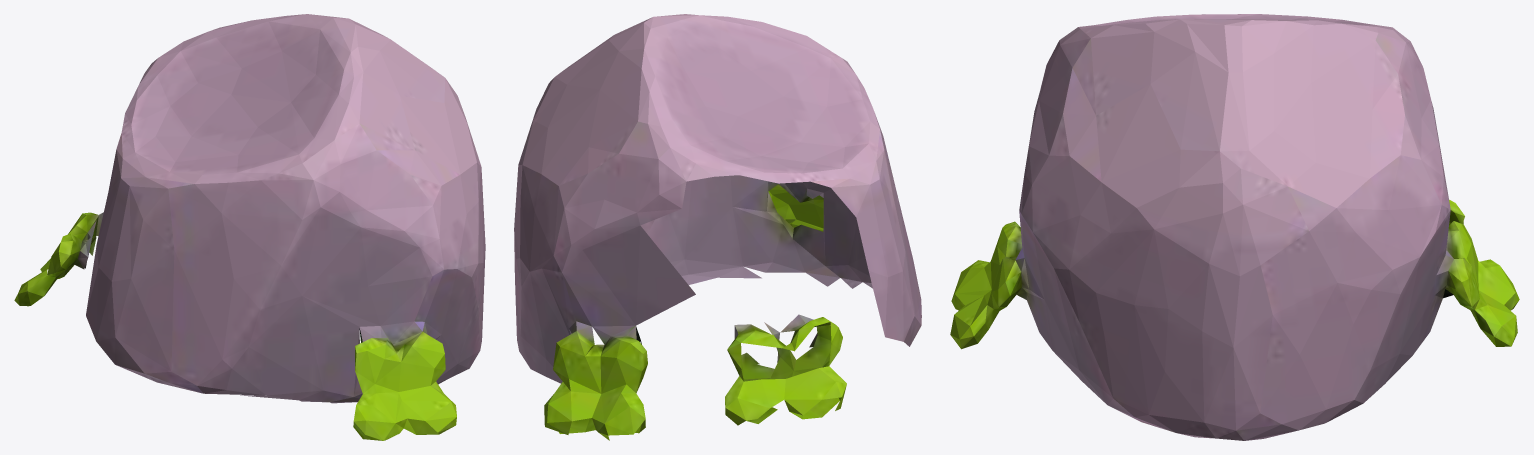
The model's file is M-6_07_rock_small.glb.
The picture shows the model from 3 angles, left to right: view 1: azimuth 30°, elevation 25°; view 2: azimuth 150°, elevation 25°; view 3: azimuth 270°, elevation 25°; orthographic projection. The views are drawn at different scales.
Parts seen in each view (by area): view 1: loA; view 2: loA; view 3: loA.
Boxes of the visible parts, left/top/right/bottom form: loA: left=14, top=14, right=485, bottom=440; loA: left=514, top=14, right=921, bottom=440; loA: left=950, top=14, right=1519, bottom=440.
Size of the model in its own units: 1.34 by 1.11 by 1.58.
1 material, 1 textured.
